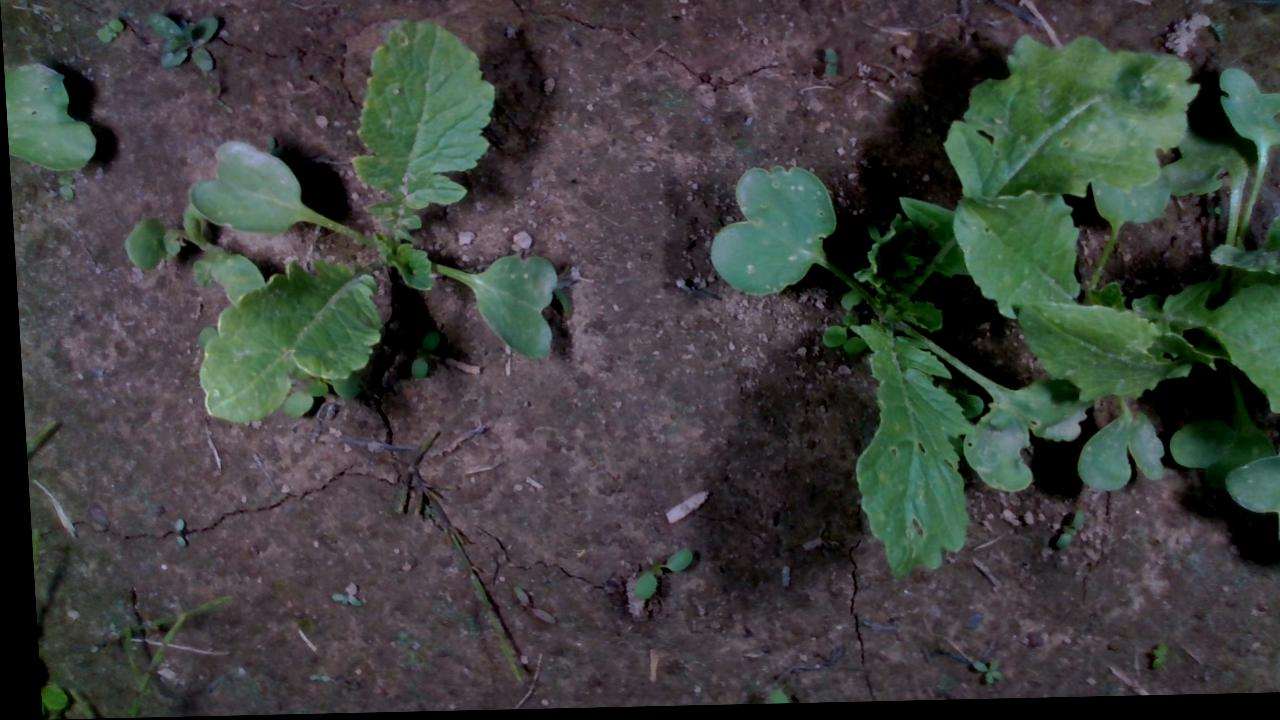weed: (622, 545, 689, 606), (503, 585, 549, 628), (402, 330, 437, 382), (1045, 513, 1080, 555), (960, 660, 994, 689), (1134, 643, 1161, 678), (94, 16, 124, 43), (821, 49, 837, 84), (53, 173, 72, 202), (321, 593, 355, 609)
